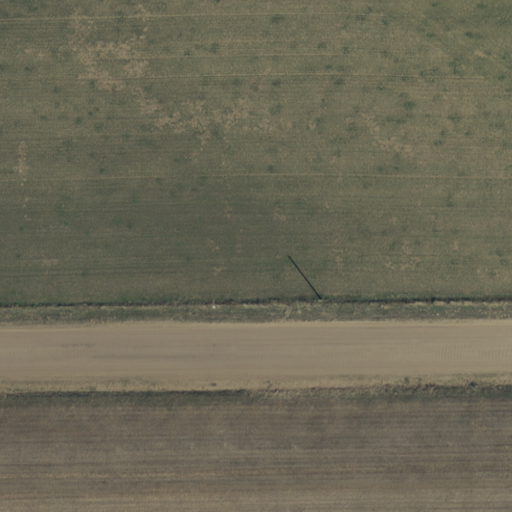DT: (312, 288, 330, 314)
